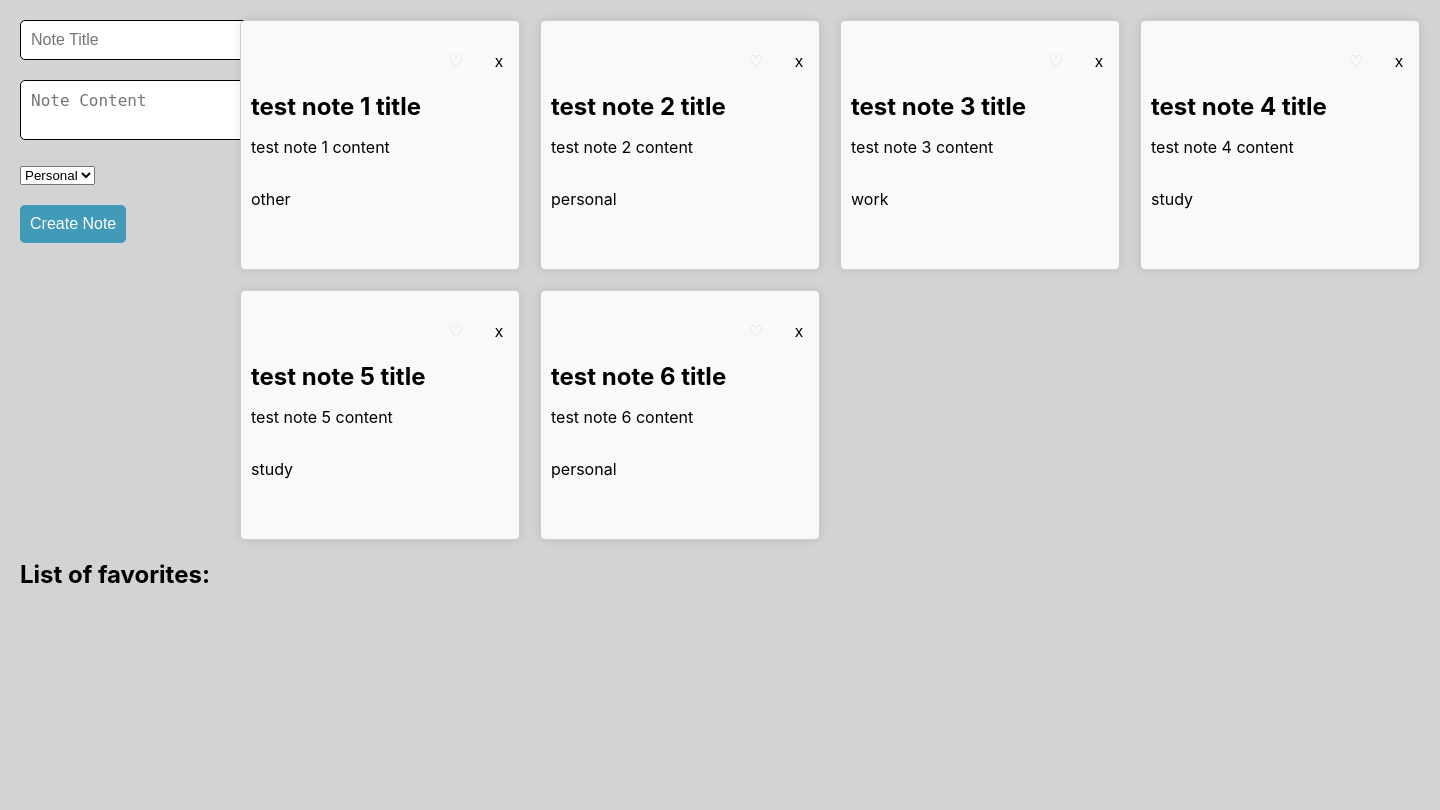
Test: Create StickyNote › Check if note deleted
What coordinates should you click on to do the following:
click the 1st button "x"
I would click on:
 (499, 62)
Its box is [489,31,509,92].
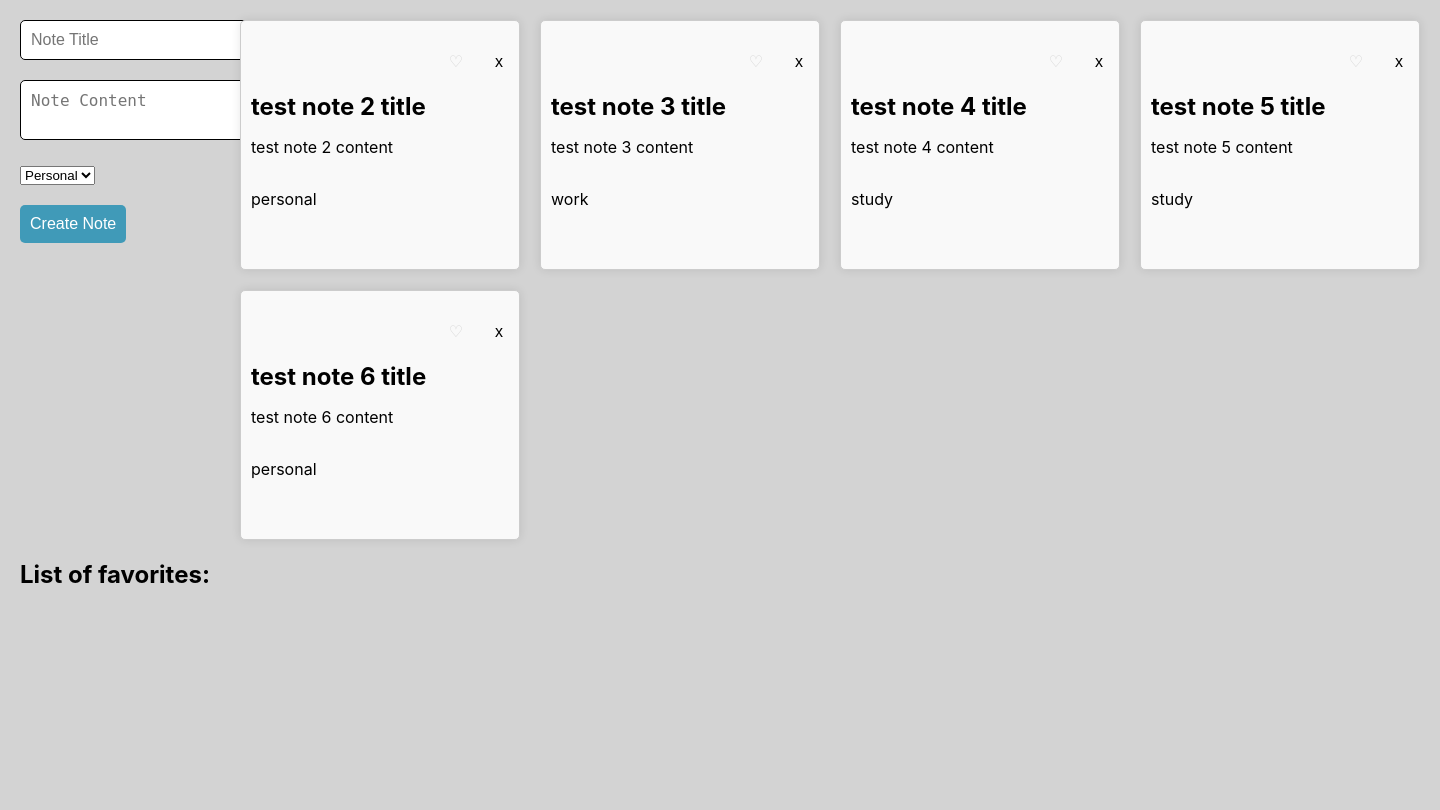
Now the heading "test note 1 title" is gone
